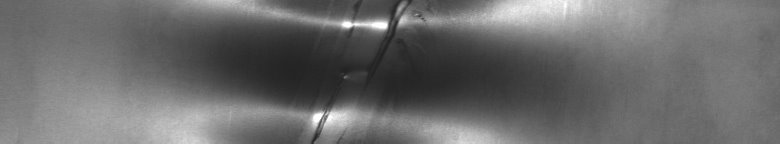ke: (268, 4, 460, 136)
